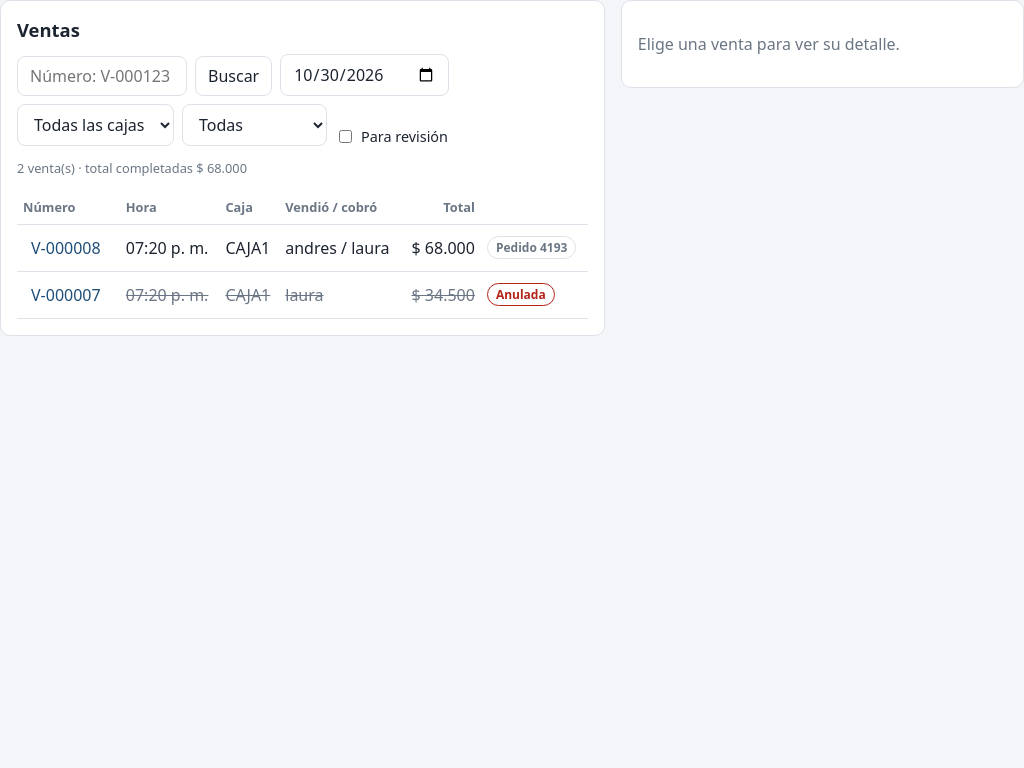
Test case: pantalla Ventas › lista las de hoy con vendedor y cajero, y muestra el detalle al elegir una
The width and height of the screenshot is (1024, 768).
Expected: the text "andres / laura" is shown, [279, 224, 402, 271]
Expected: the text "Pedido 4193" is shown, [487, 236, 576, 259]
Click the button "V-000008": (66, 248) [23, 233, 109, 263]
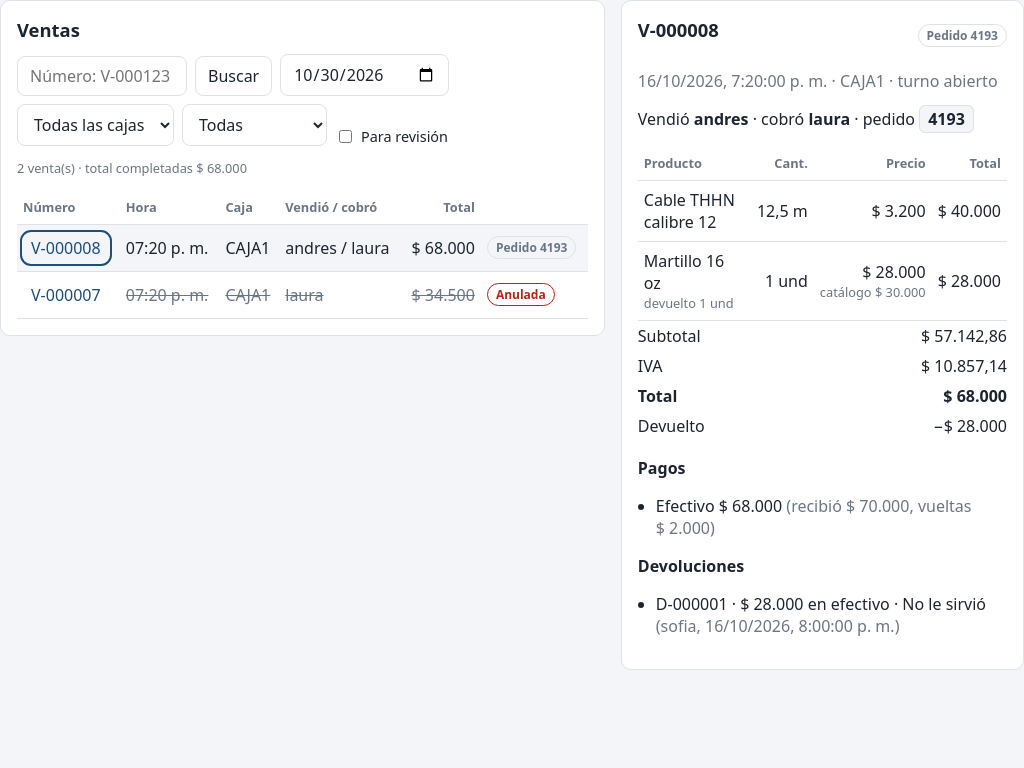
Now the heading "V-000008" is shown, box [638, 17, 719, 42]
Now the text "16/10/2026, 7:20:00 p. m. · CAJA1 · turno abierto" is shown, box [638, 70, 1007, 92]
Now the text "devuelto 1 und" is shown, box [644, 294, 745, 312]
